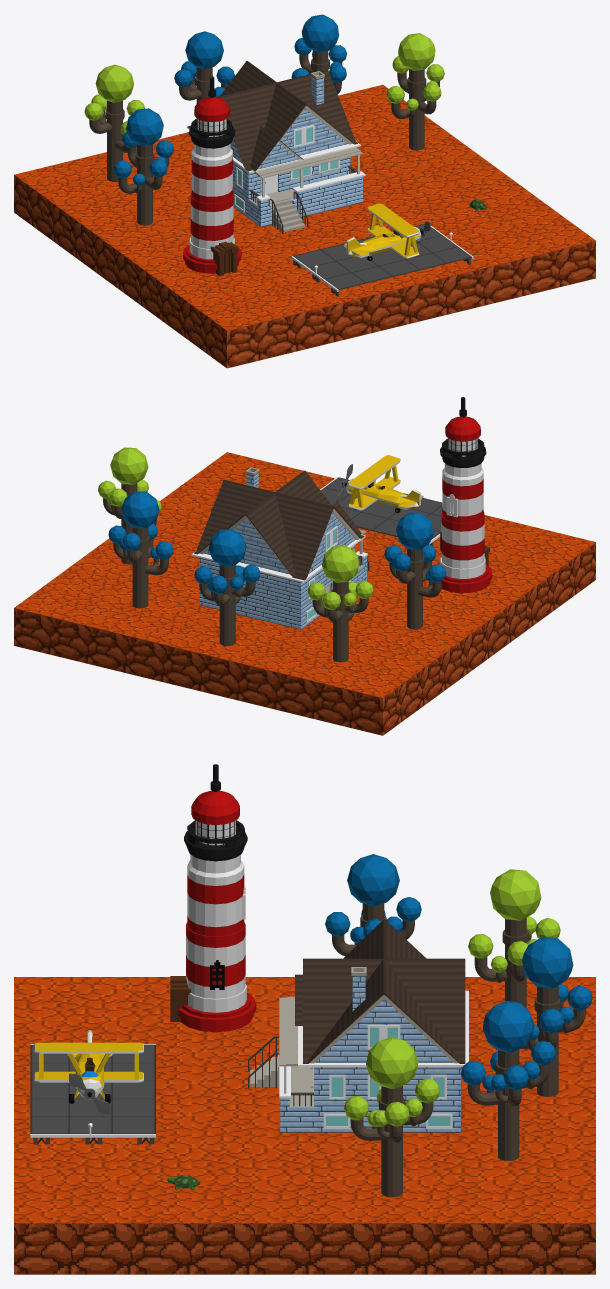
3 renders of one model, top to bottom at view 1: azimuth 30°, elevation 25°; view 2: azimuth 150°, elevation 25°; view 3: azimuth 270°, elevation 25°, orthographic. The views are drawn at different scales.
Parts seen in each view (by area): view 1: Cube.001, Cube.547, OBJRANDOM_LIGHTHOUSE, VEHICLES_AIRPLANE; view 2: Cube.001, Cube.547, OBJRANDOM_LIGHTHOUSE, VEHICLES_AIRPLANE; view 3: Cube.001, Cube.547, OBJRANDOM_LIGHTHOUSE, VEHICLES_AIRPLANE.
Boxes of the visible parts, x1,y1,x2,y2 form: Cube.001: [14, 14, 595, 368]; Cube.547: [187, 61, 365, 233]; OBJRANDOM_LIGHTHOUSE: [183, 77, 241, 276]; VEHICLES_AIRPLANE: [344, 203, 430, 260]; Cube.001: [14, 447, 595, 735]; Cube.547: [191, 467, 369, 629]; OBJRANDOM_LIGHTHOUSE: [440, 397, 492, 593]; VEHICLES_AIRPLANE: [336, 455, 423, 513]; Cube.001: [14, 854, 595, 1274]; Cube.547: [248, 919, 468, 1132]; OBJRANDOM_LIGHTHOUSE: [170, 764, 256, 1032]; VEHICLES_AIRPLANE: [34, 1030, 143, 1114].
Bounding box in the file's own units: 4000 × 2375 × 4000.
47 materials, 5 textured.
